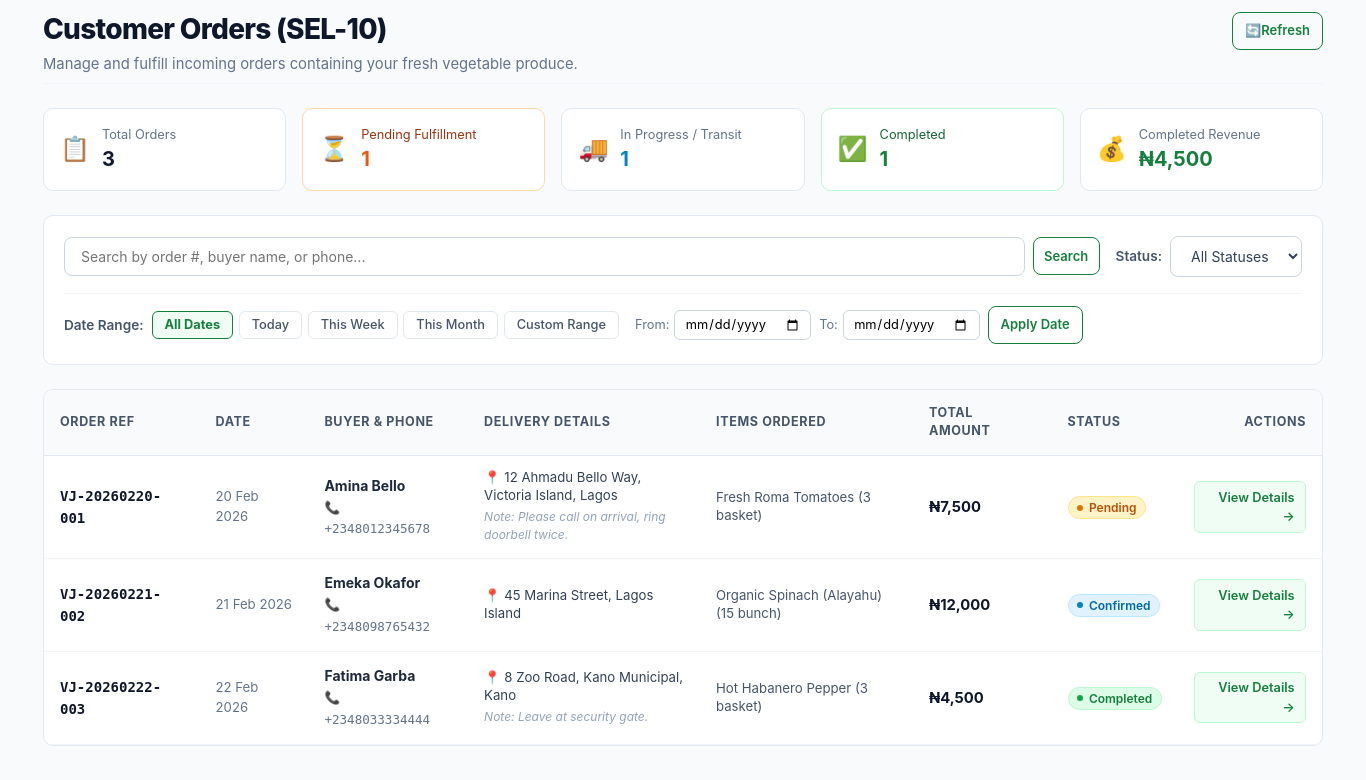
Scenario: FE-090 / SEL-10: Seller Orders List › 5. Date Range Filtering (SEL-10, Figma Section 13) › filters orders by custom From and To date inputs
This screenshot has width=1366, height=780.
// Pick date range covering only Order 101 (2026-02-20)
In the date field with test id "seller-orders-date-from": (743, 325) x1=674 y1=310 x2=811 y2=340, type "2026-02-20"
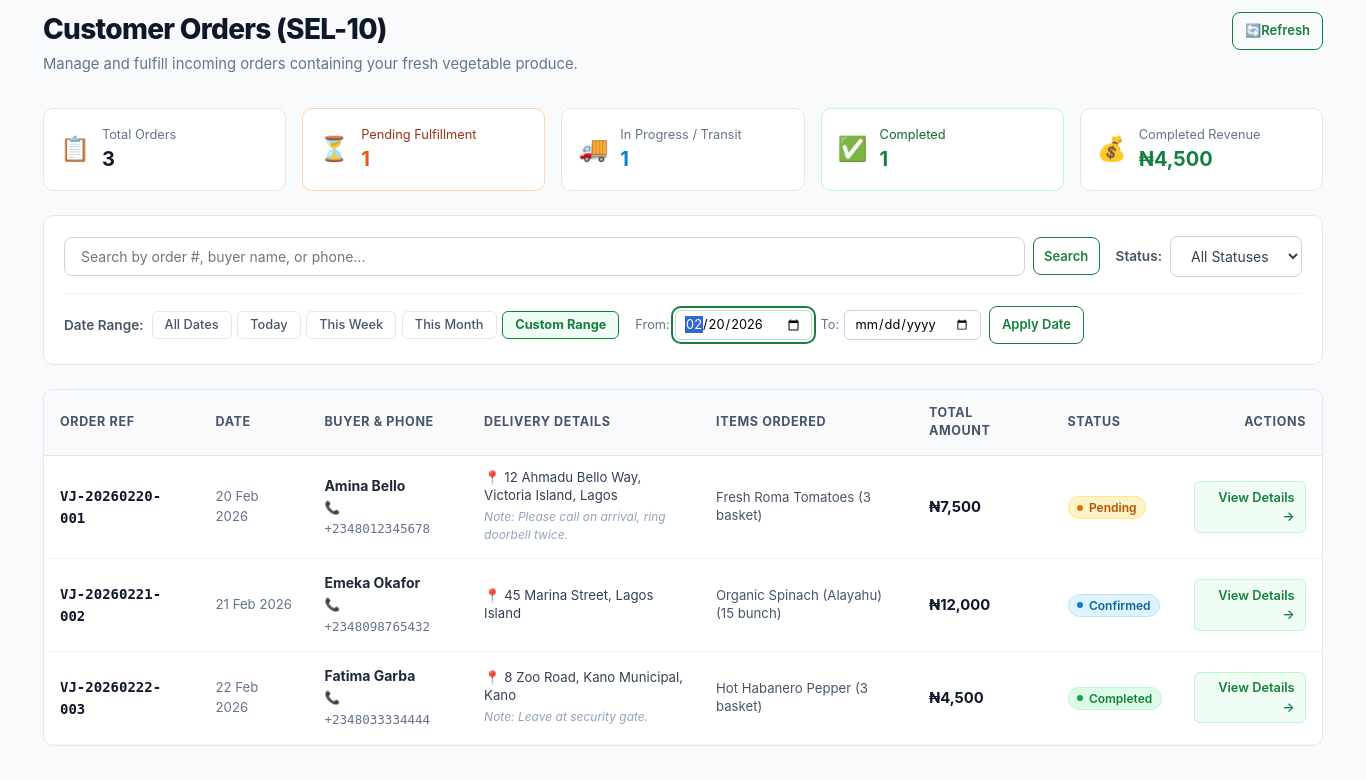
In the date field with test id "seller-orders-date-to": (912, 325) x1=844 y1=310 x2=981 y2=340, type "2026-02-20"
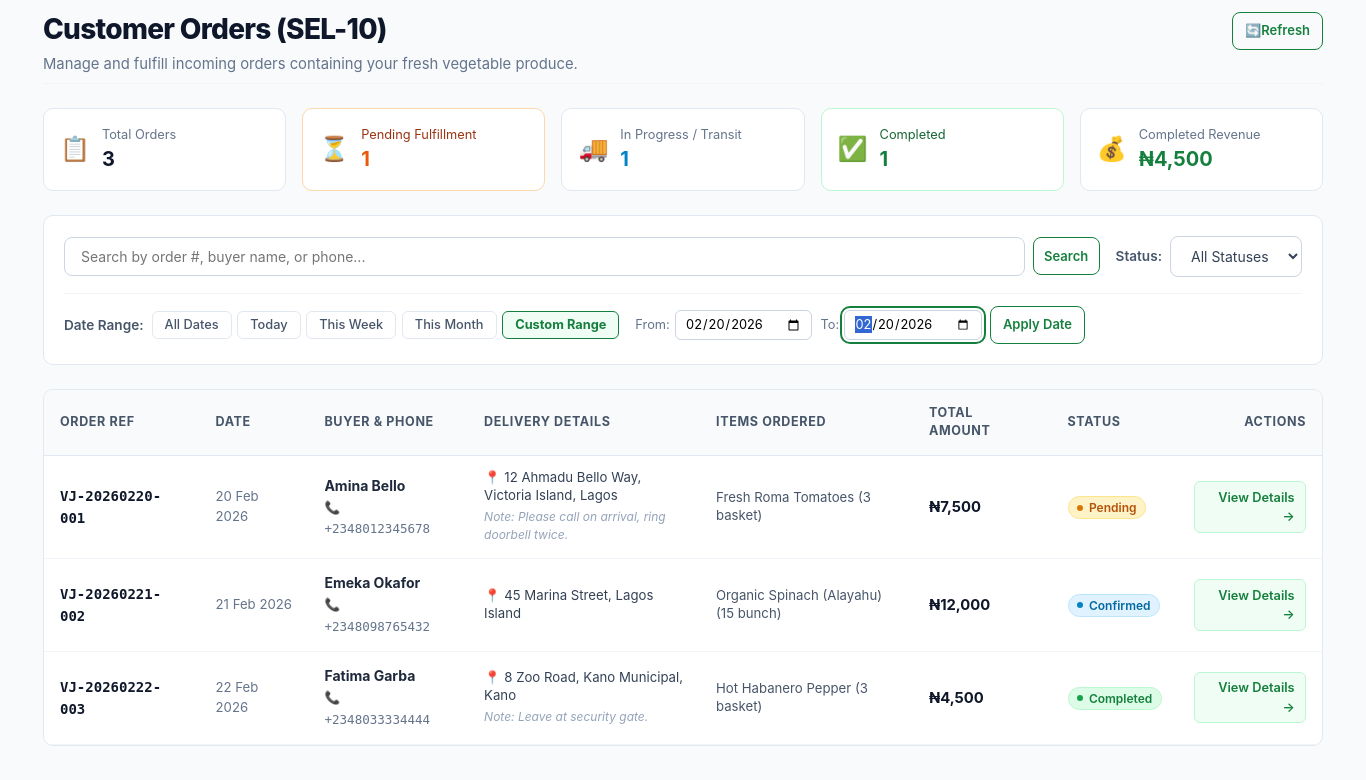
Click the button with test id "seller-orders-apply-dates-btn": (1037, 325) x1=990 y1=306 x2=1085 y2=344
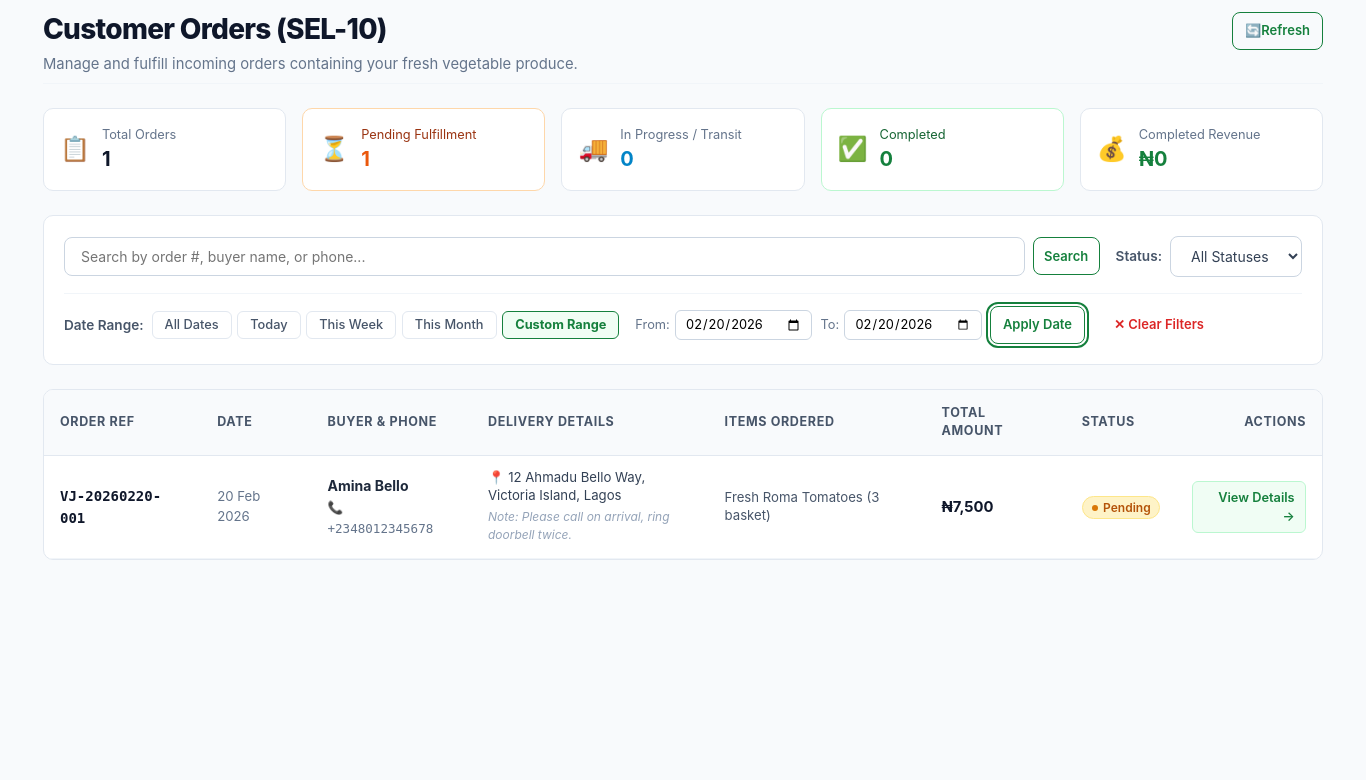
expect the row with test id "seller-order-row-101" is shown: met, box x1=44 y1=455 x2=1322 y2=558
expect the row with test id "seller-order-row-102" is gone: met
